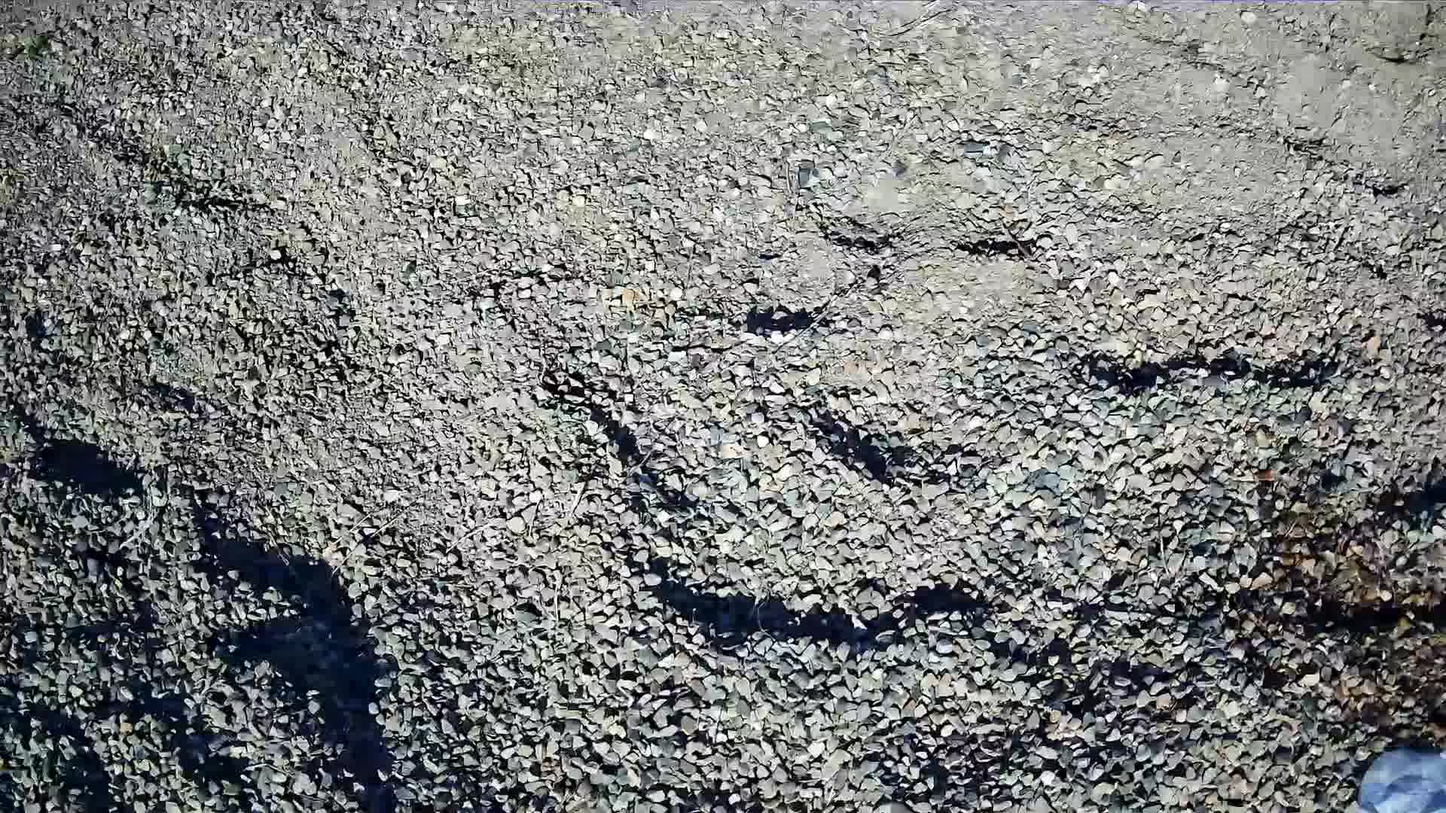Target: (1357, 746, 1446, 813)
